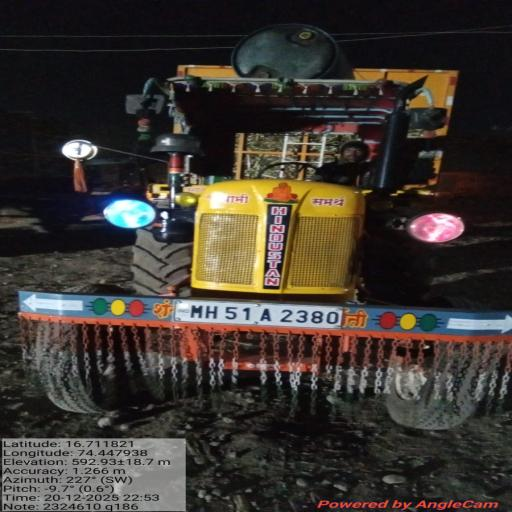number_plate: (180, 294, 358, 336)
